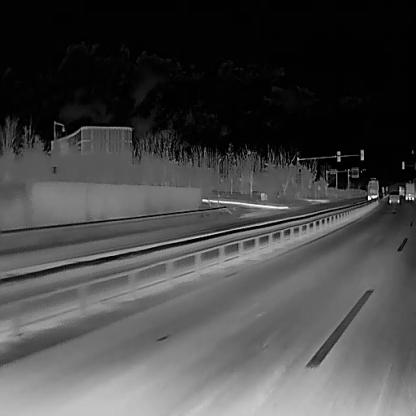car: (387, 189, 400, 203)
truck: (366, 176, 379, 201), (404, 182, 414, 200), (397, 184, 404, 196)
